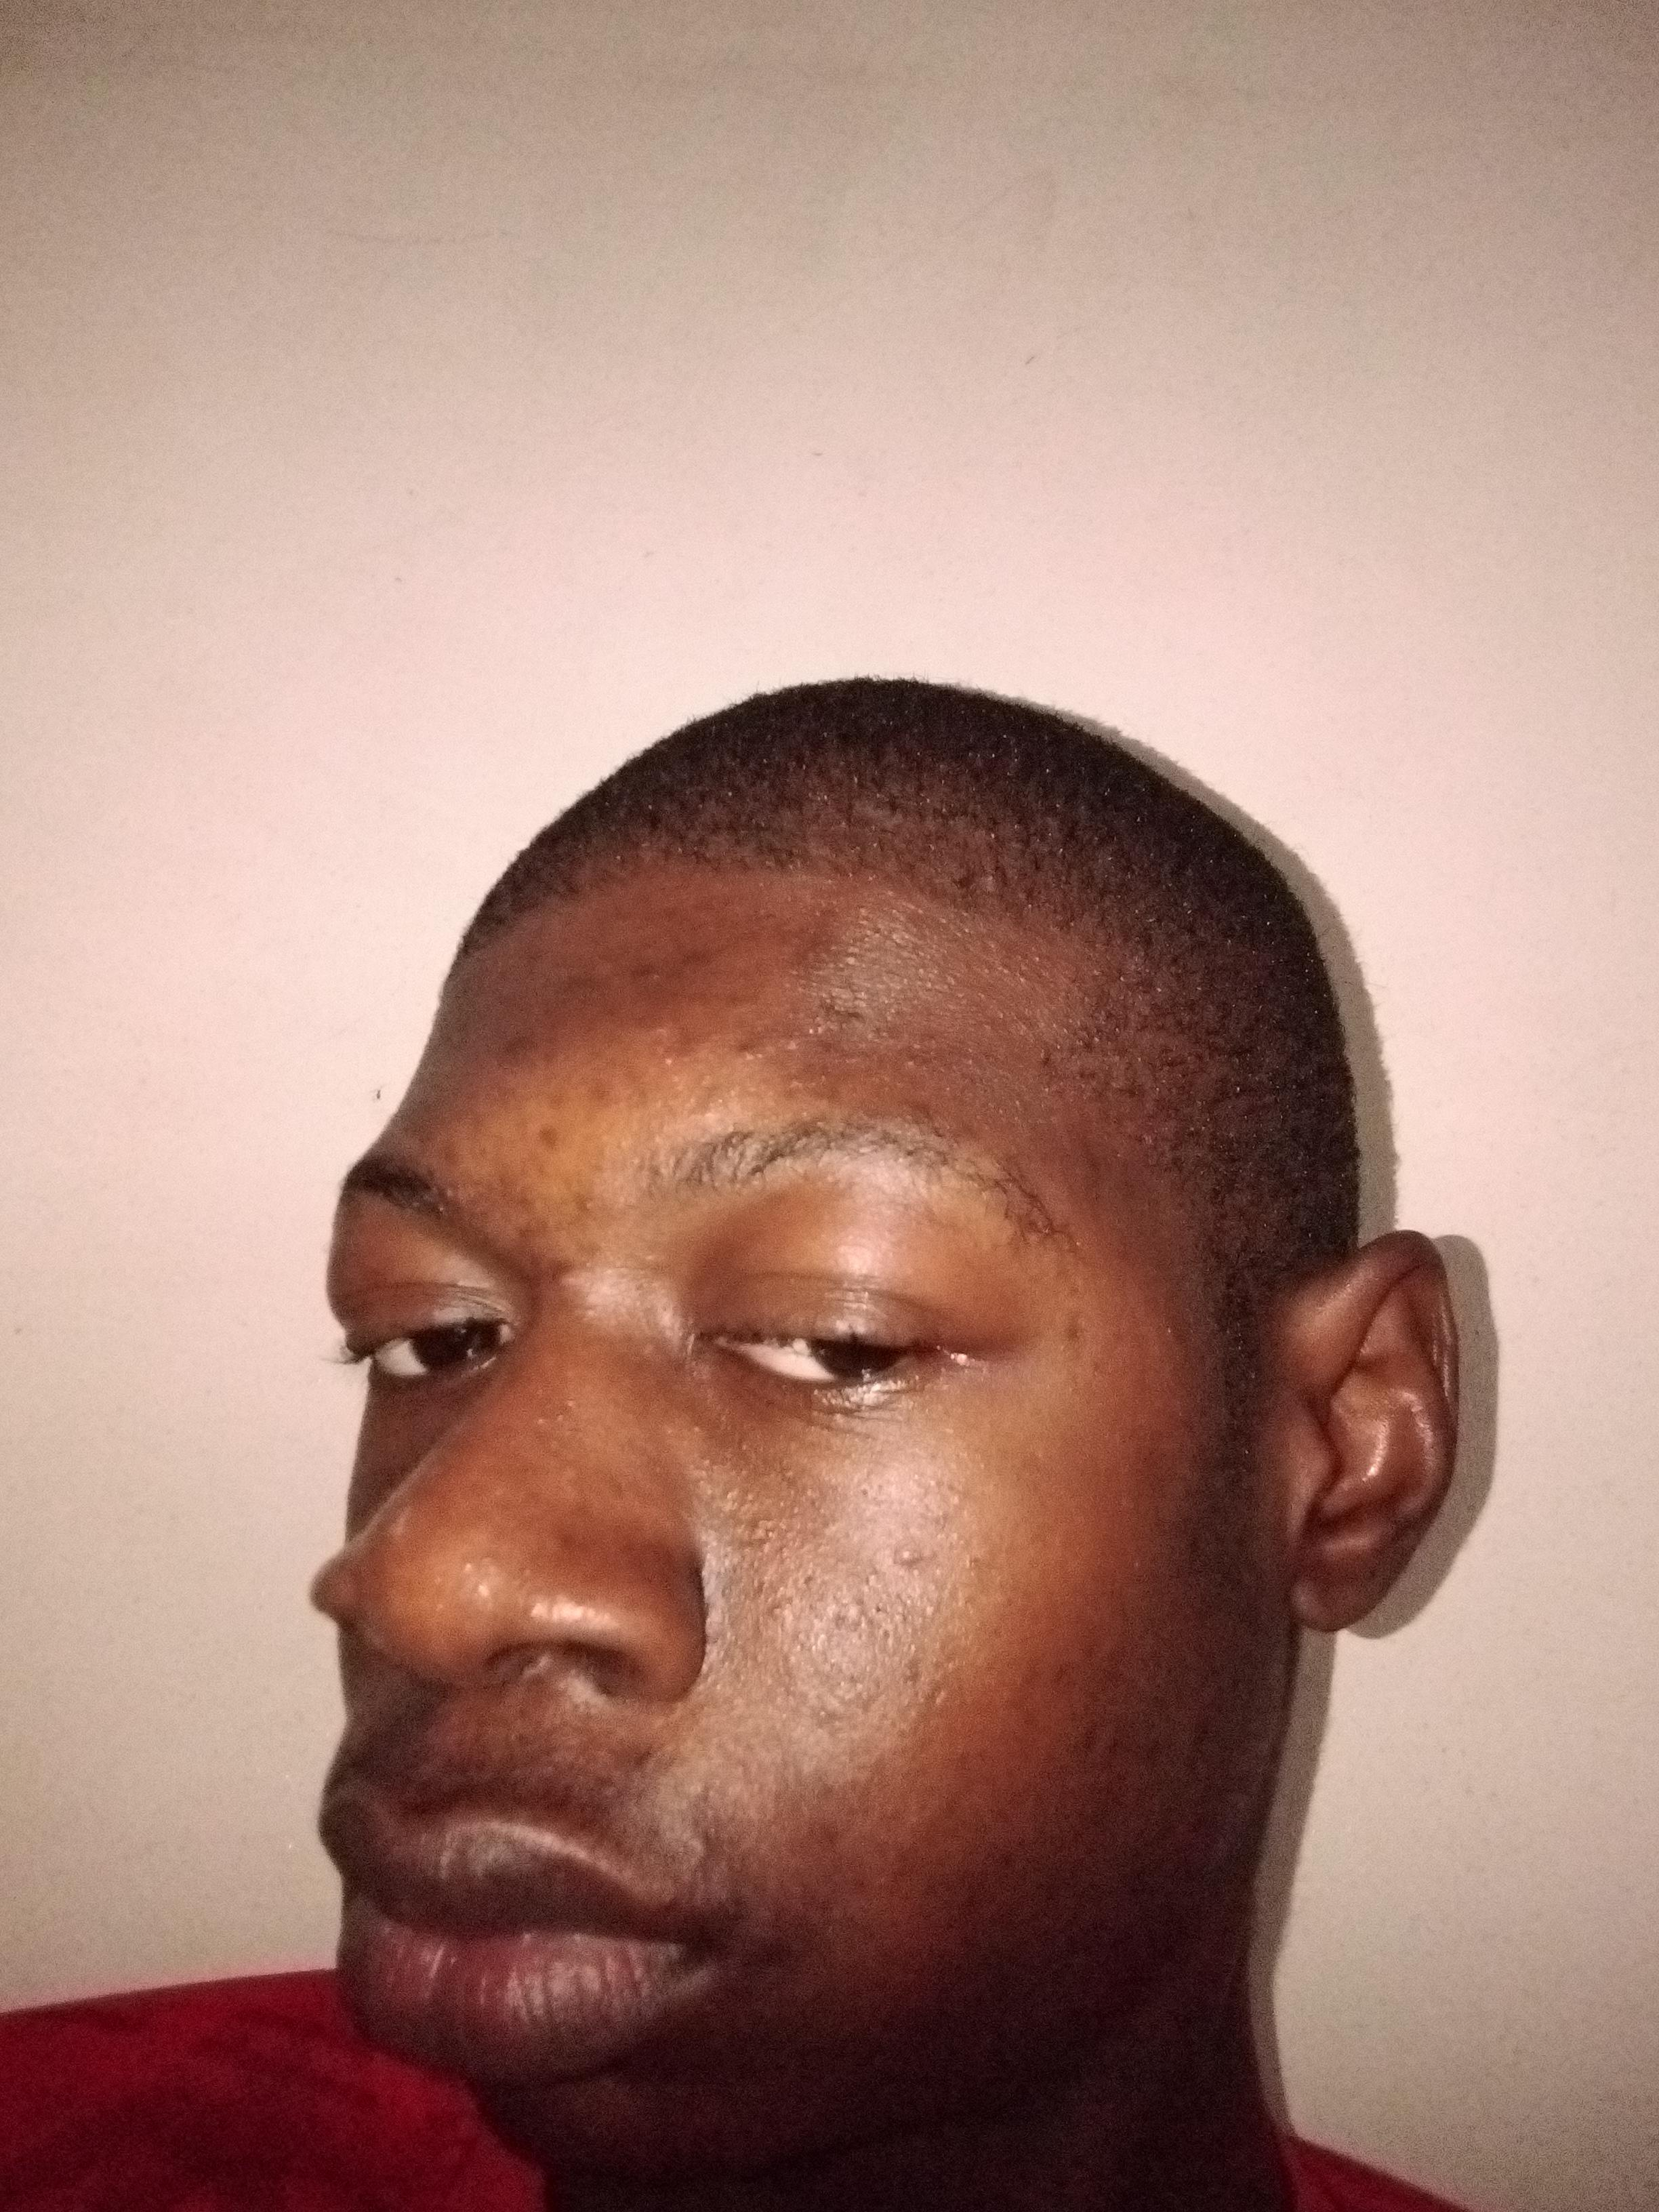Acne: (728, 1001, 866, 1062), (770, 902, 856, 977), (617, 939, 741, 986), (1019, 1637, 1121, 1691), (878, 1017, 936, 1082), (544, 1080, 653, 1113), (540, 1238, 610, 1280), (511, 1191, 563, 1245), (769, 1066, 845, 1103), (490, 1033, 558, 1073), (1056, 1305, 1098, 1364), (540, 1515, 593, 1561), (674, 1019, 718, 1066), (526, 1116, 568, 1162), (887, 1538, 932, 1575), (432, 1130, 467, 1170), (817, 1811, 845, 1851), (577, 1181, 601, 1221), (1032, 1043, 1056, 1071)
Blackheads: (706, 1580, 960, 1724), (692, 1432, 847, 1644)
